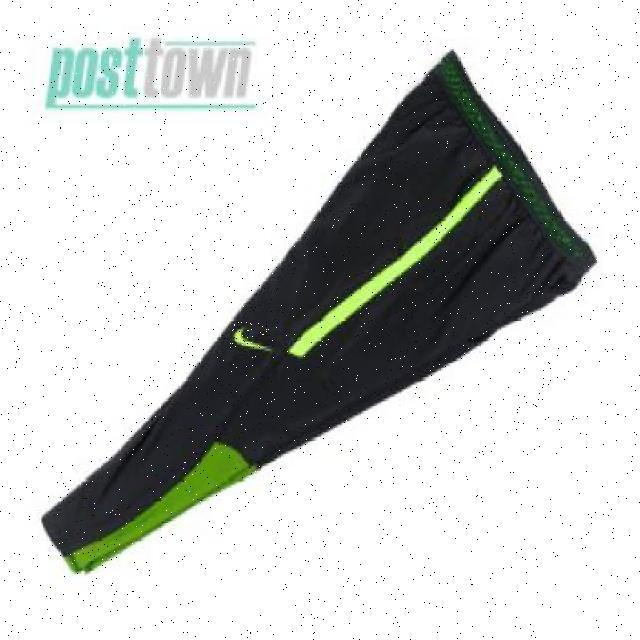Nike: (229, 323, 269, 349)
